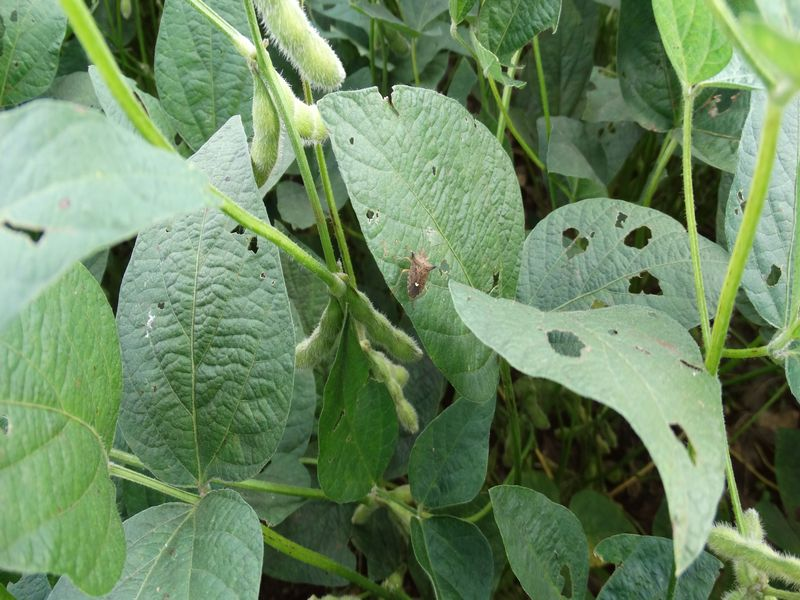Euschistus_heros_adulto: (388, 237, 444, 302)
